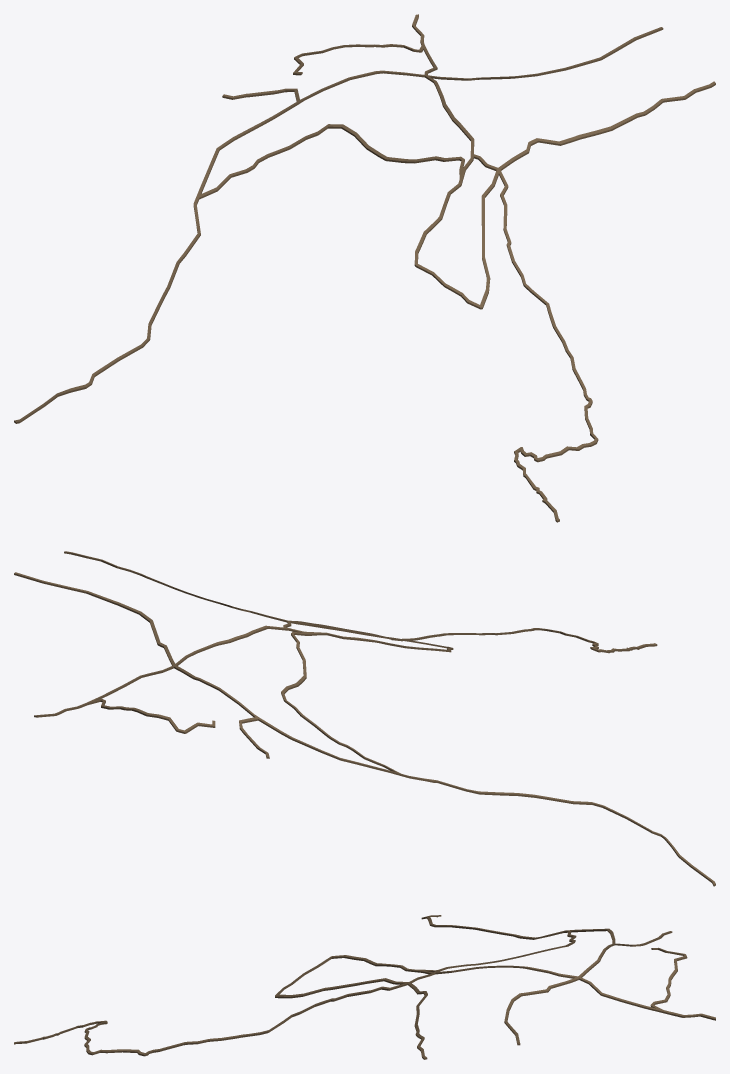
The picture shows the model from 3 angles, top to bottom: view 1: azimuth 30°, elevation 25°; view 2: azimuth 150°, elevation 25°; view 3: azimuth 270°, elevation 25°; orthographic projection. The views are drawn at different scales.
Bounding box in the file's own units: 293 × 78.54 × 292.
